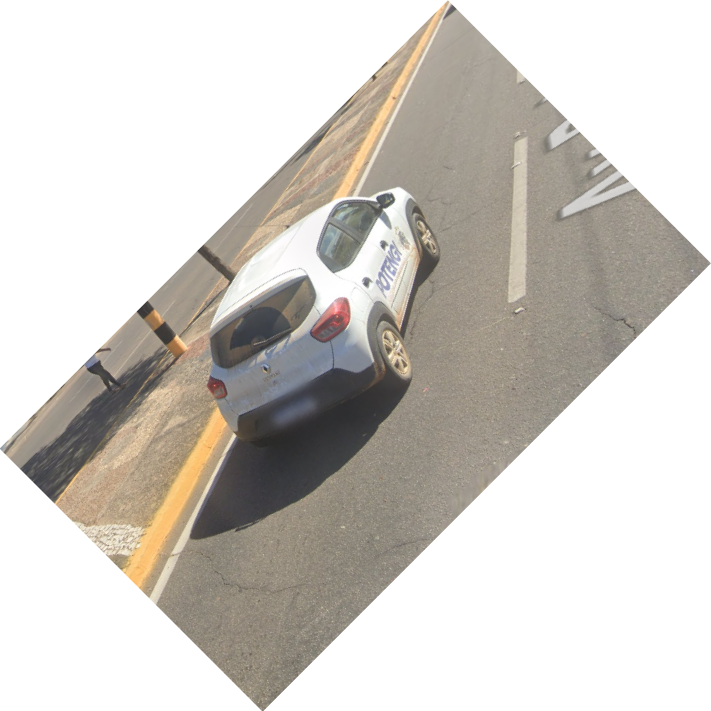car: (198, 181, 444, 458)
